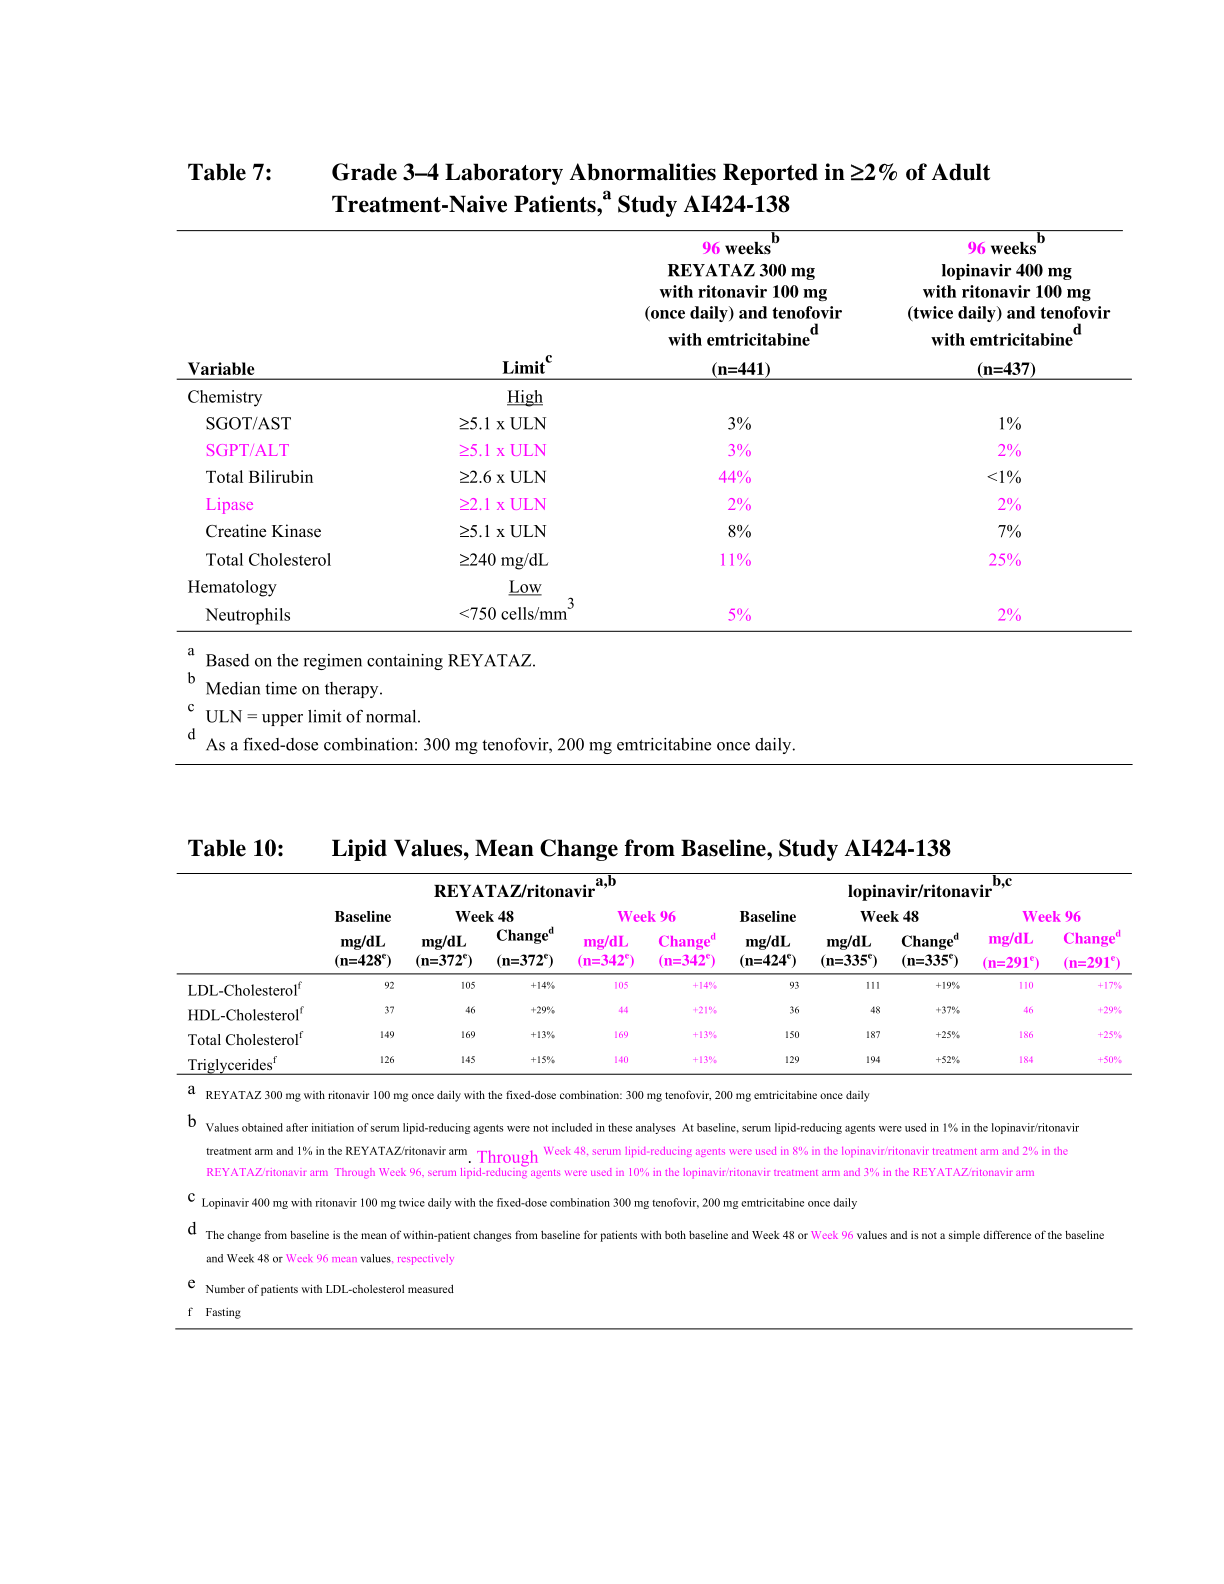partial_lined: (171, 222, 1139, 636)
partial_lined_merged_cells: (172, 867, 1137, 1083)
